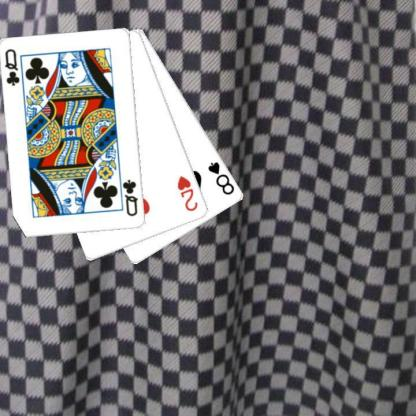2H: (175, 173, 199, 213)
8S: (206, 159, 236, 196)
QC: (120, 177, 139, 218), (3, 47, 21, 87)
